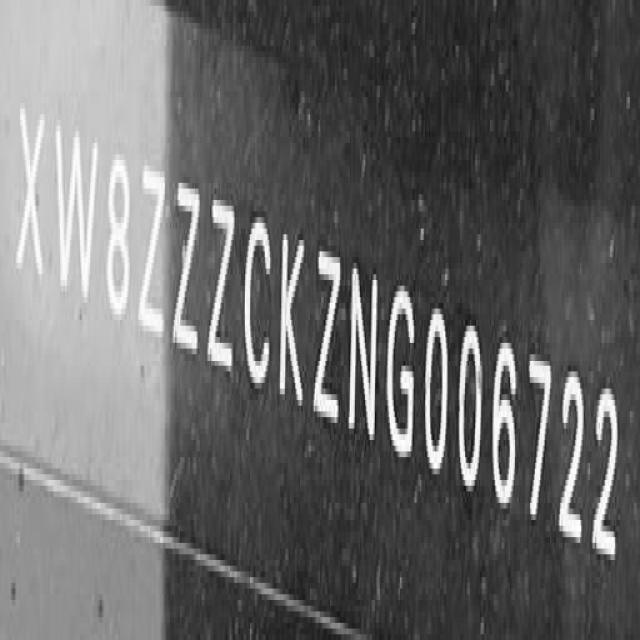0: (457, 314, 484, 501), (422, 304, 450, 483)
2: (588, 389, 622, 583), (557, 366, 586, 569)
6: (491, 332, 519, 512)
7: (522, 350, 552, 538)
8: (107, 154, 129, 324)
C: (240, 206, 274, 401)
G: (385, 274, 417, 458)
K: (276, 220, 311, 420)
N: (346, 250, 380, 465)
W: (52, 108, 100, 306)
X: (13, 81, 50, 295)
Z: (311, 229, 345, 435), (206, 185, 238, 398), (136, 154, 169, 346), (171, 176, 205, 361)
